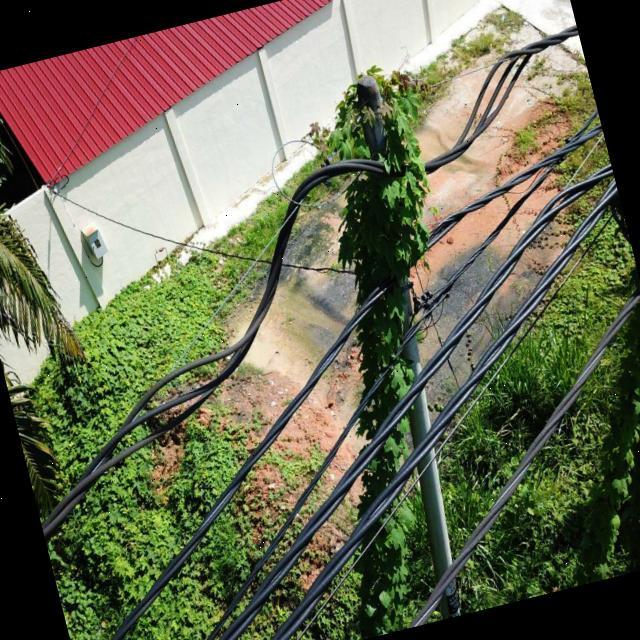critical vegetation: (222, 47, 555, 632)
